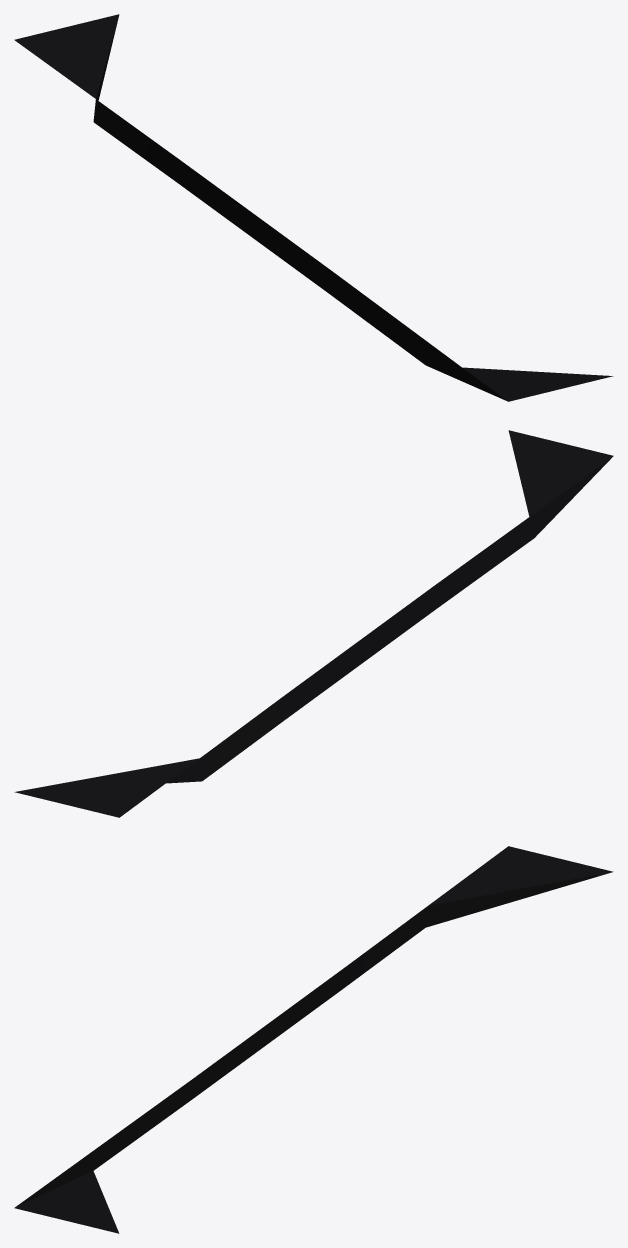
The model's file is skirt_L_skirt.glb.
The picture shows the model from 3 angles, top to bottom: view 1: azimuth 30°, elevation 25°; view 2: azimuth 150°, elevation 25°; view 3: azimuth 330°, elevation 25°; orthographic projection.
Visible parts, largest first — view 1: skirt_L_skirt; view 2: skirt_L_skirt; view 3: skirt_L_skirt.
Part boxes in pixels (<box>): skirt_L_skirt: <box>14,14,613,401</box>; skirt_L_skirt: <box>14,430,613,817</box>; skirt_L_skirt: <box>14,846,613,1233</box>.
Size of the model in its own units: 0.2234 by 0.045 by 1.79.
1 material, 1 textured.
